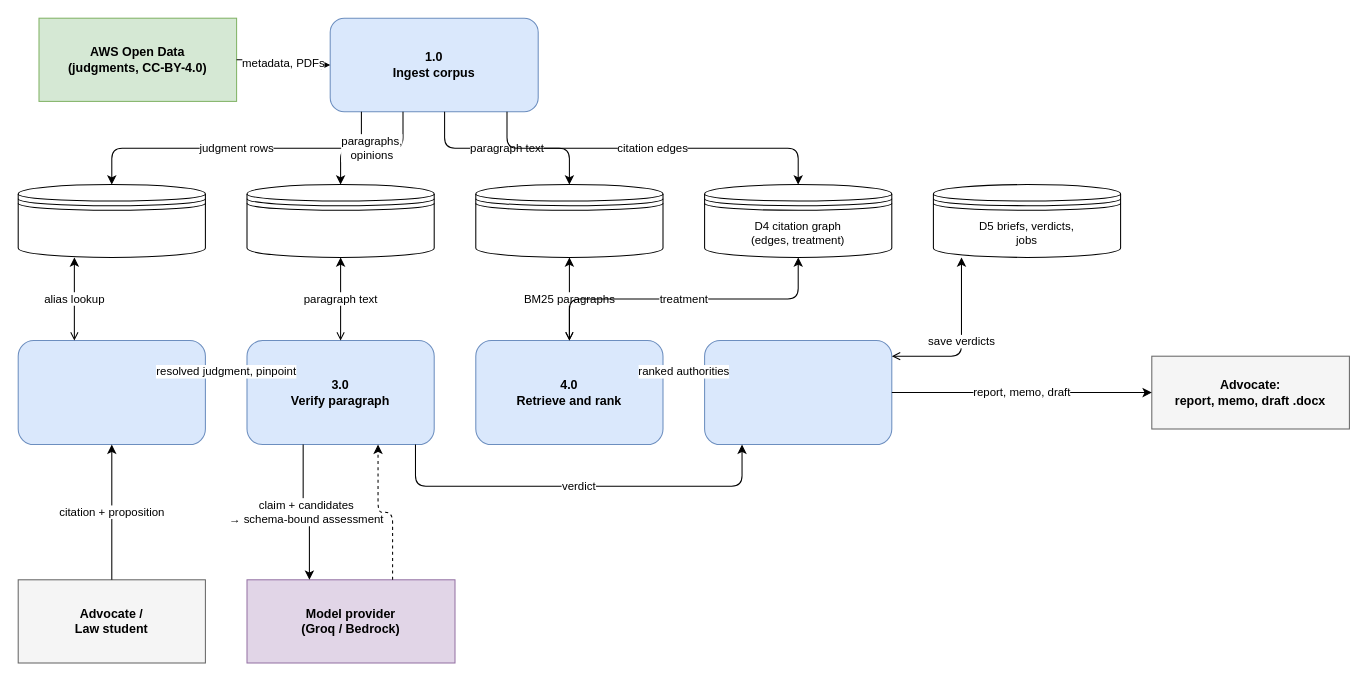
The diagram is 1368 pixels wide and 681 high, and some of its shapes have lost their labels. Here are the shapes that lost their labels. From the top down, the centre of each, then its label:
At (x=111, y=220): "D1 judgments (canonical keys, bench)".
At (x=340, y=220): "D2 text versions + paragraphs".
At (x=569, y=220): "D3 full-text index (SQLite FTS5)".
At (x=111, y=392): "2.0 Resolve citation".
At (x=798, y=392): "5.0 Draft and report".
